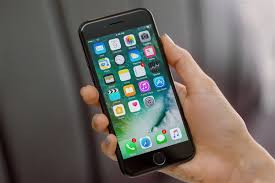iphone: (78, 3, 199, 180)
iphone8: (78, 3, 199, 180)
